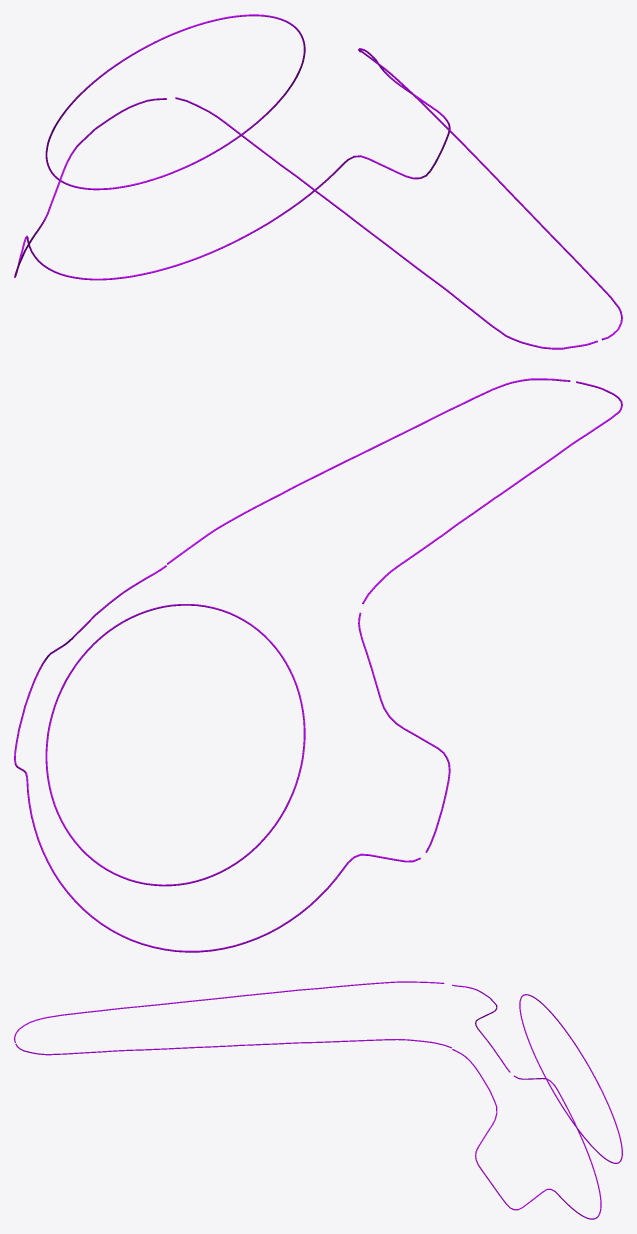
The model's file is Vive_Controller_Body_experiment.fbx.
The picture shows the model from 3 angles, top to bottom: view 1: azimuth 30°, elevation 25°; view 2: azimuth 150°, elevation 25°; view 3: azimuth 270°, elevation 25°; orthographic projection. The views are drawn at different scales.
Visible parts, largest first — view 1: cntrl_1_0; view 2: cntrl_1_0; view 3: cntrl_1_0.
Part boxes in pixels (<box>): cntrl_1_0: <box>14,14,622,349</box>; cntrl_1_0: <box>14,378,622,952</box>; cntrl_1_0: <box>14,981,622,1219</box>.
Bounding box in the file's own units: 11.75 × 7.96 × 21.89.
